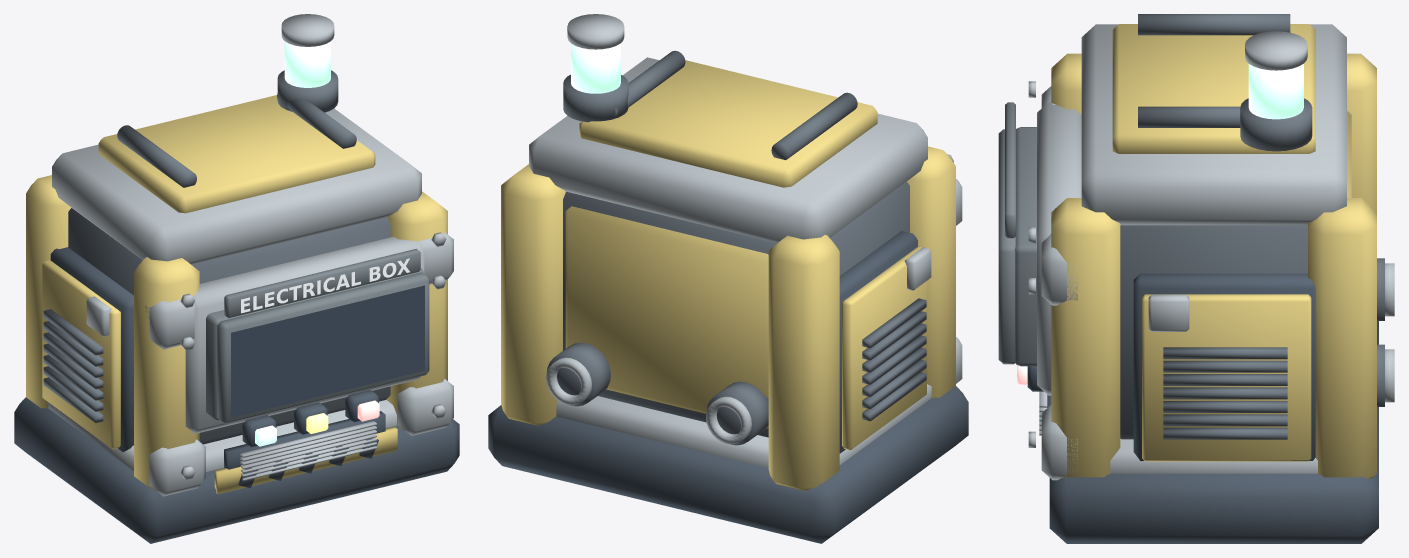
Rendered from electrical_box_enhanced.glb.
3 renders of one model, left to right at view 1: azimuth 30°, elevation 25°; view 2: azimuth 150°, elevation 25°; view 3: azimuth 270°, elevation 25°, orthographic. The views are drawn at different scales.
Parts seen in each view (by area): view 1: TopCap_steel_legacy_10, Base_black_legacy_0, Frame_yellow_legacy_4, RoofPanel_yellow_legacy_11, LiveViewSurface_glass, Housing_dark_legacy_2, CornerGuard_steel_legacy_5, DisplayFrame_steel_legacy_13, ServiceDoor_yellow_legacy_7, LiveViewSurfaceFrame_frame, Detail_steel_legacy_24, SideVents_dark_legacy_8 (+13 smaller); view 2: Frame_yellow_legacy_4, Armor_yellow_legacy_3, Base_black_legacy_0, TopCap_steel_legacy_10, RoofPanel_yellow_legacy_11, Housing_dark_legacy_2, ServiceDoor_yellow_legacy_7, Skirt_steel_legacy_1, SideVents_dark_legacy_8, RearPort_dark_legacy_29, LiftRail_dark_legacy_12, SidePanel_black_legacy_6 (+6 smaller); view 3: Frame_yellow_legacy_4, TopCap_steel_legacy_10, Base_black_legacy_0, ServiceDoor_yellow_legacy_7, RoofPanel_yellow_legacy_11, Housing_dark_legacy_2, SideVents_dark_legacy_8, DisplayFrame_steel_legacy_13, SidePanel_black_legacy_6, LiftRail_dark_legacy_12, ScreenMount_frame, CornerGuard_steel_legacy_5 (+10 smaller).
Part boxes in pixels (x1,y1,x2,y2): TopCap_steel_legacy_10: (52,108,421,264); Base_black_legacy_0: (14,397,459,543); Frame_yellow_legacy_4: (26,175,447,491); RoofPanel_yellow_legacy_11: (98,95,375,213); LiveViewSurface_glass: (231,285,424,417); Housing_dark_legacy_2: (68,208,390,444); CornerGuard_steel_legacy_5: (145,232,453,496); DisplayFrame_steel_legacy_13: (185,236,424,433); ServiceDoor_yellow_legacy_7: (42,260,120,449); LiveViewSurfaceFrame_frame: (217,272,429,423); Detail_steel_legacy_24: (180,232,446,480); SideVents_dark_legacy_8: (43,309,103,422); Frame_yellow_legacy_4: (501,146,955,490); Armor_yellow_legacy_3: (565,206,768,428); Base_black_legacy_0: (488,386,968,543); TopCap_steel_legacy_10: (529,57,927,242); RoofPanel_yellow_legacy_11: (579,60,877,187); Housing_dark_legacy_2: (563,182,909,437); ServiceDoor_yellow_legacy_7: (842,246,926,450); Skirt_steel_legacy_1: (556,384,931,468); SideVents_dark_legacy_8: (862,298,926,421); RearPort_dark_legacy_29: (547,342,768,445); LiftRail_dark_legacy_12: (615,50,857,160); SidePanel_black_legacy_6: (839,231,917,453); Frame_yellow_legacy_4: (1051,53,1376,478); TopCap_steel_legacy_10: (1081,24,1346,225); Base_black_legacy_0: (1049,321,1378,543); ServiceDoor_yellow_legacy_7: (1142,294,1311,461); RoofPanel_yellow_legacy_11: (1112,24,1315,153); Housing_dark_legacy_2: (1120,225,1307,439); SideVents_dark_legacy_8: (1163,347,1287,439); DisplayFrame_steel_legacy_13: (1037,102,1081,395); SidePanel_black_legacy_6: (1133,273,1315,460); LiftRail_dark_legacy_12: (1138,14,1290,127); ScreenMount_frame: (1015,127,1036,366); CornerGuard_steel_legacy_5: (1041,86,1077,480).
Size of the model in its own units: 1.43 by 1.65 by 1.27.
